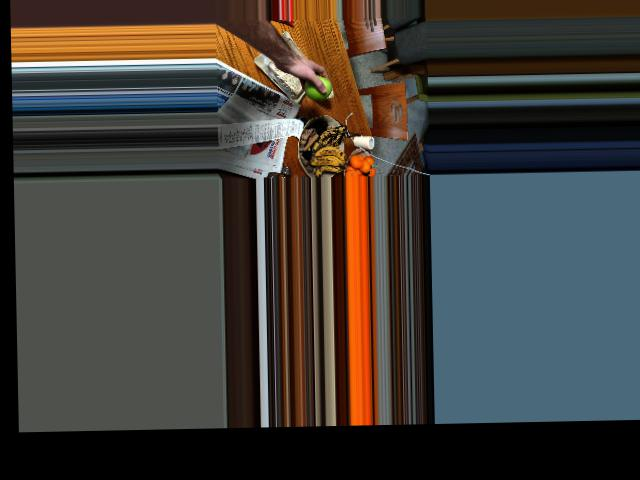apple: (304, 73, 331, 101)
